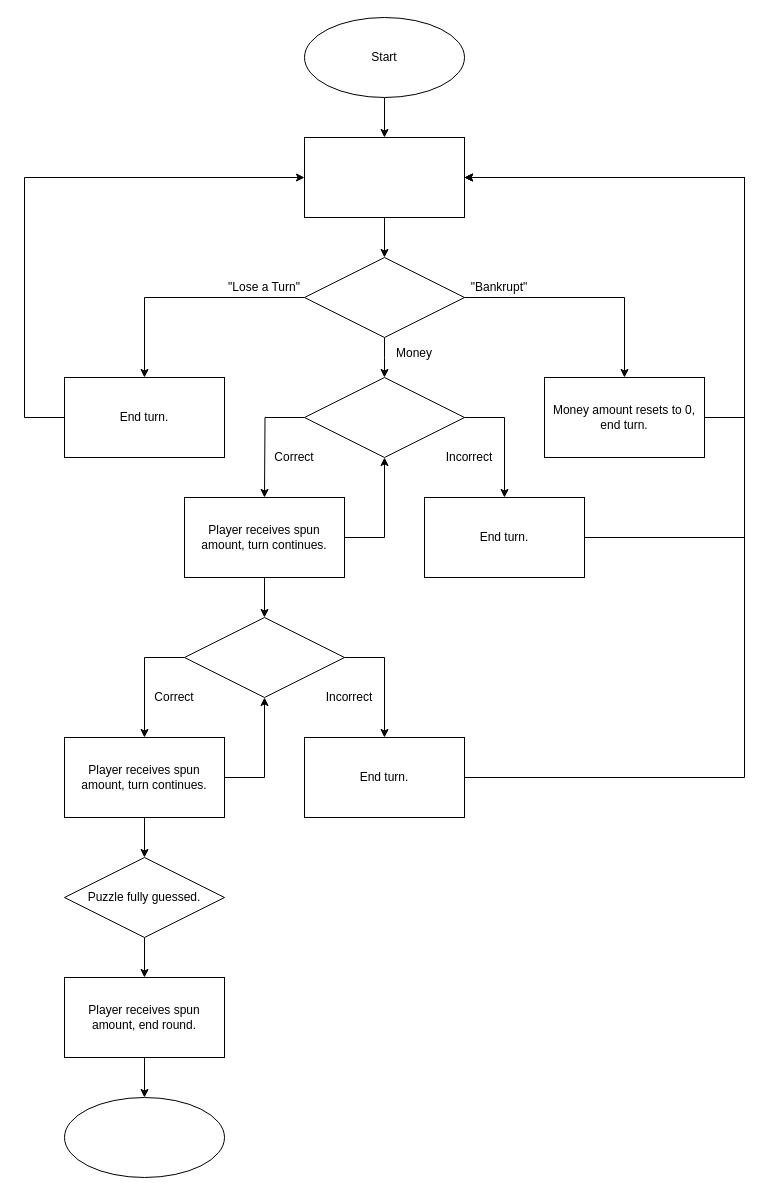
Image size: 770x1195. Some labels were removed from this diagram. Each missing label, with the box of its shape:
End: (64, 1096, 224, 1178)
Guess a consonant.: (304, 376, 464, 458)
Guess a vowel (-$250).: (184, 616, 344, 698)
New player begins turn.: (304, 136, 464, 218)
Spin wheel.: (304, 256, 464, 338)
